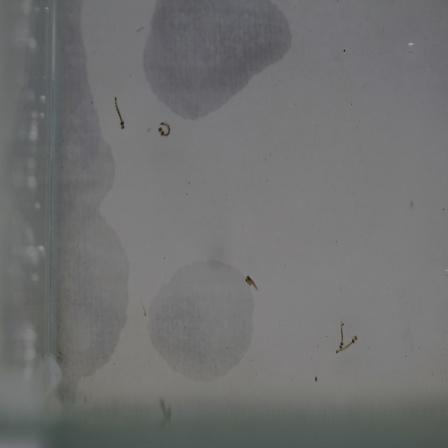Jentik-Nyamuk: (329, 319, 363, 359), (109, 92, 132, 136), (239, 270, 259, 295), (153, 118, 174, 141)
